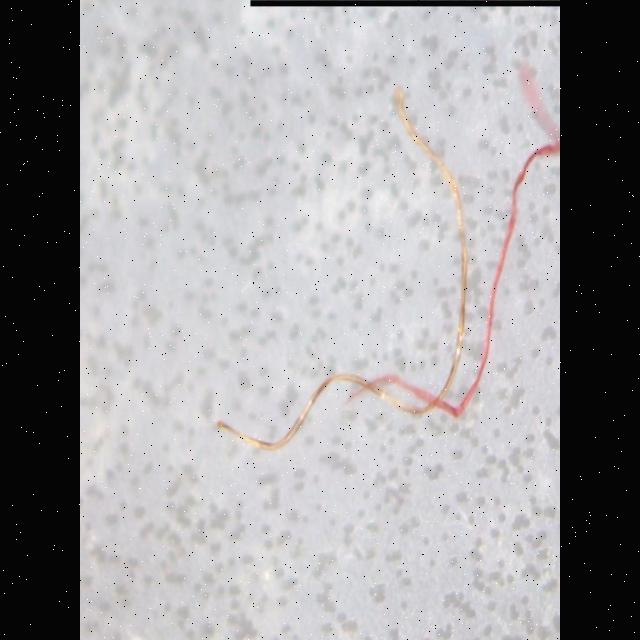Fibre: (215, 63, 561, 454)
